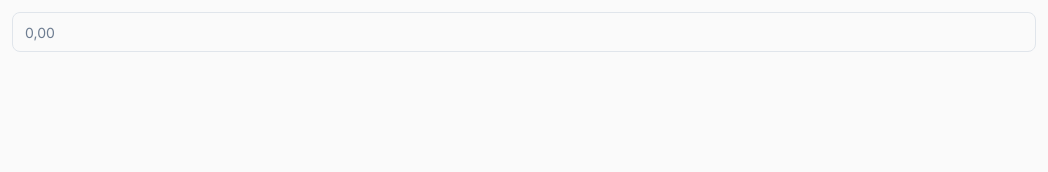
Test: ImportoCompensazioneInput › decimali extra vengono arrotondati a 2 cifre (banker-agnostic)
The image size is (1048, 172).
Type "12,3456" into the field with test id "importo". click: (524, 32)
box: [12, 12, 1036, 52]
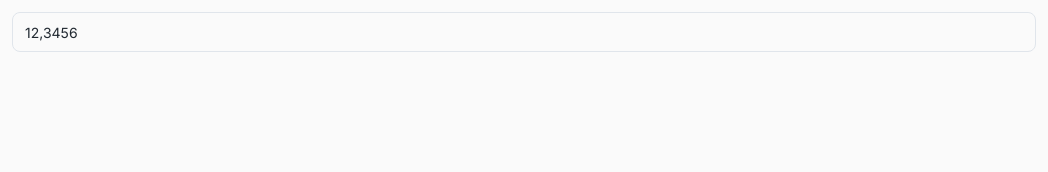
Leave the field with test id "importo", box [12, 12, 1036, 52]
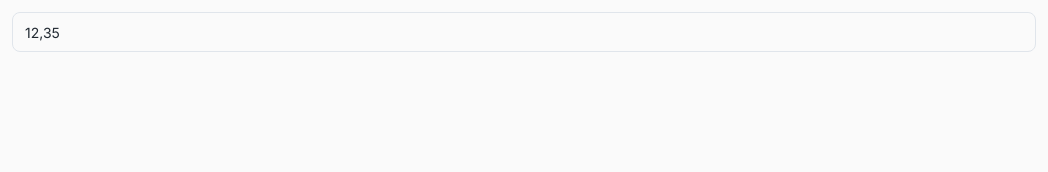
Expected: the field with test id "importo" holds "12,35", [12, 12, 1036, 52]
